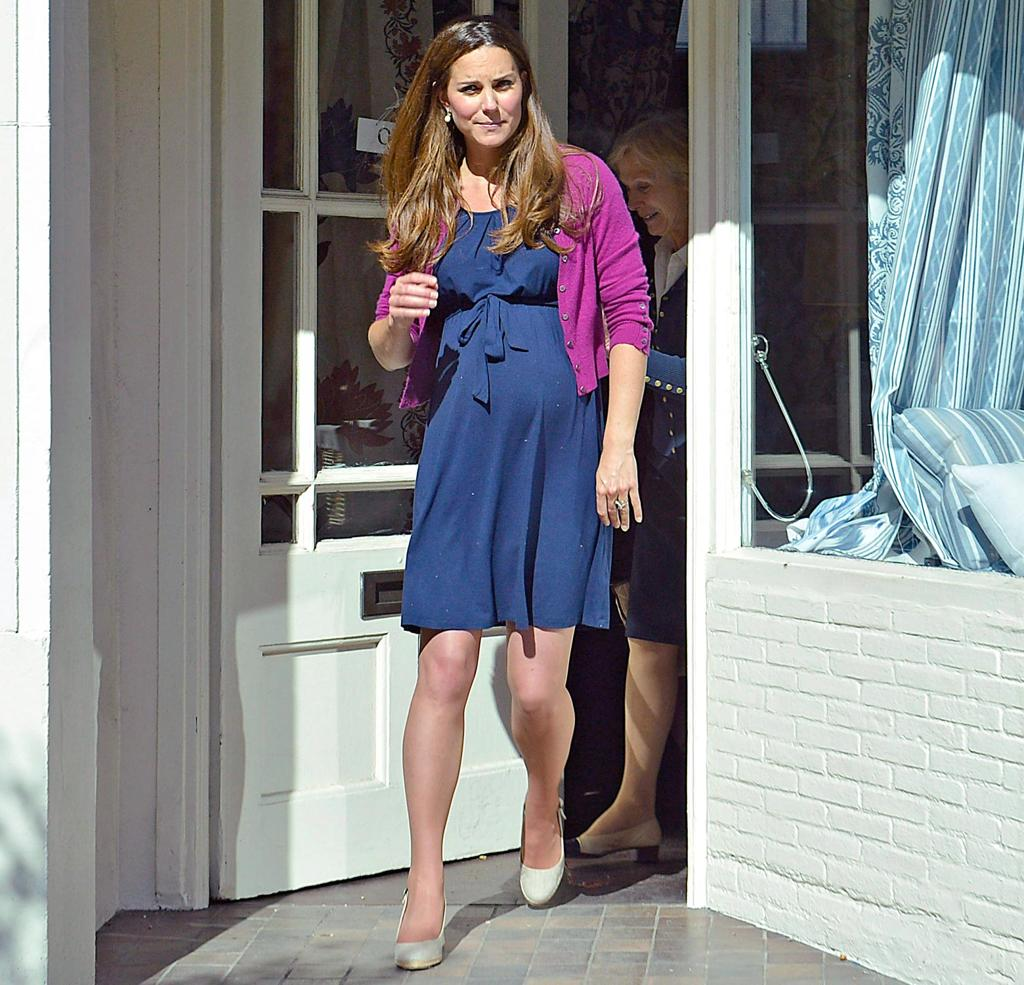face: (446, 42, 524, 148), (620, 144, 688, 238)
